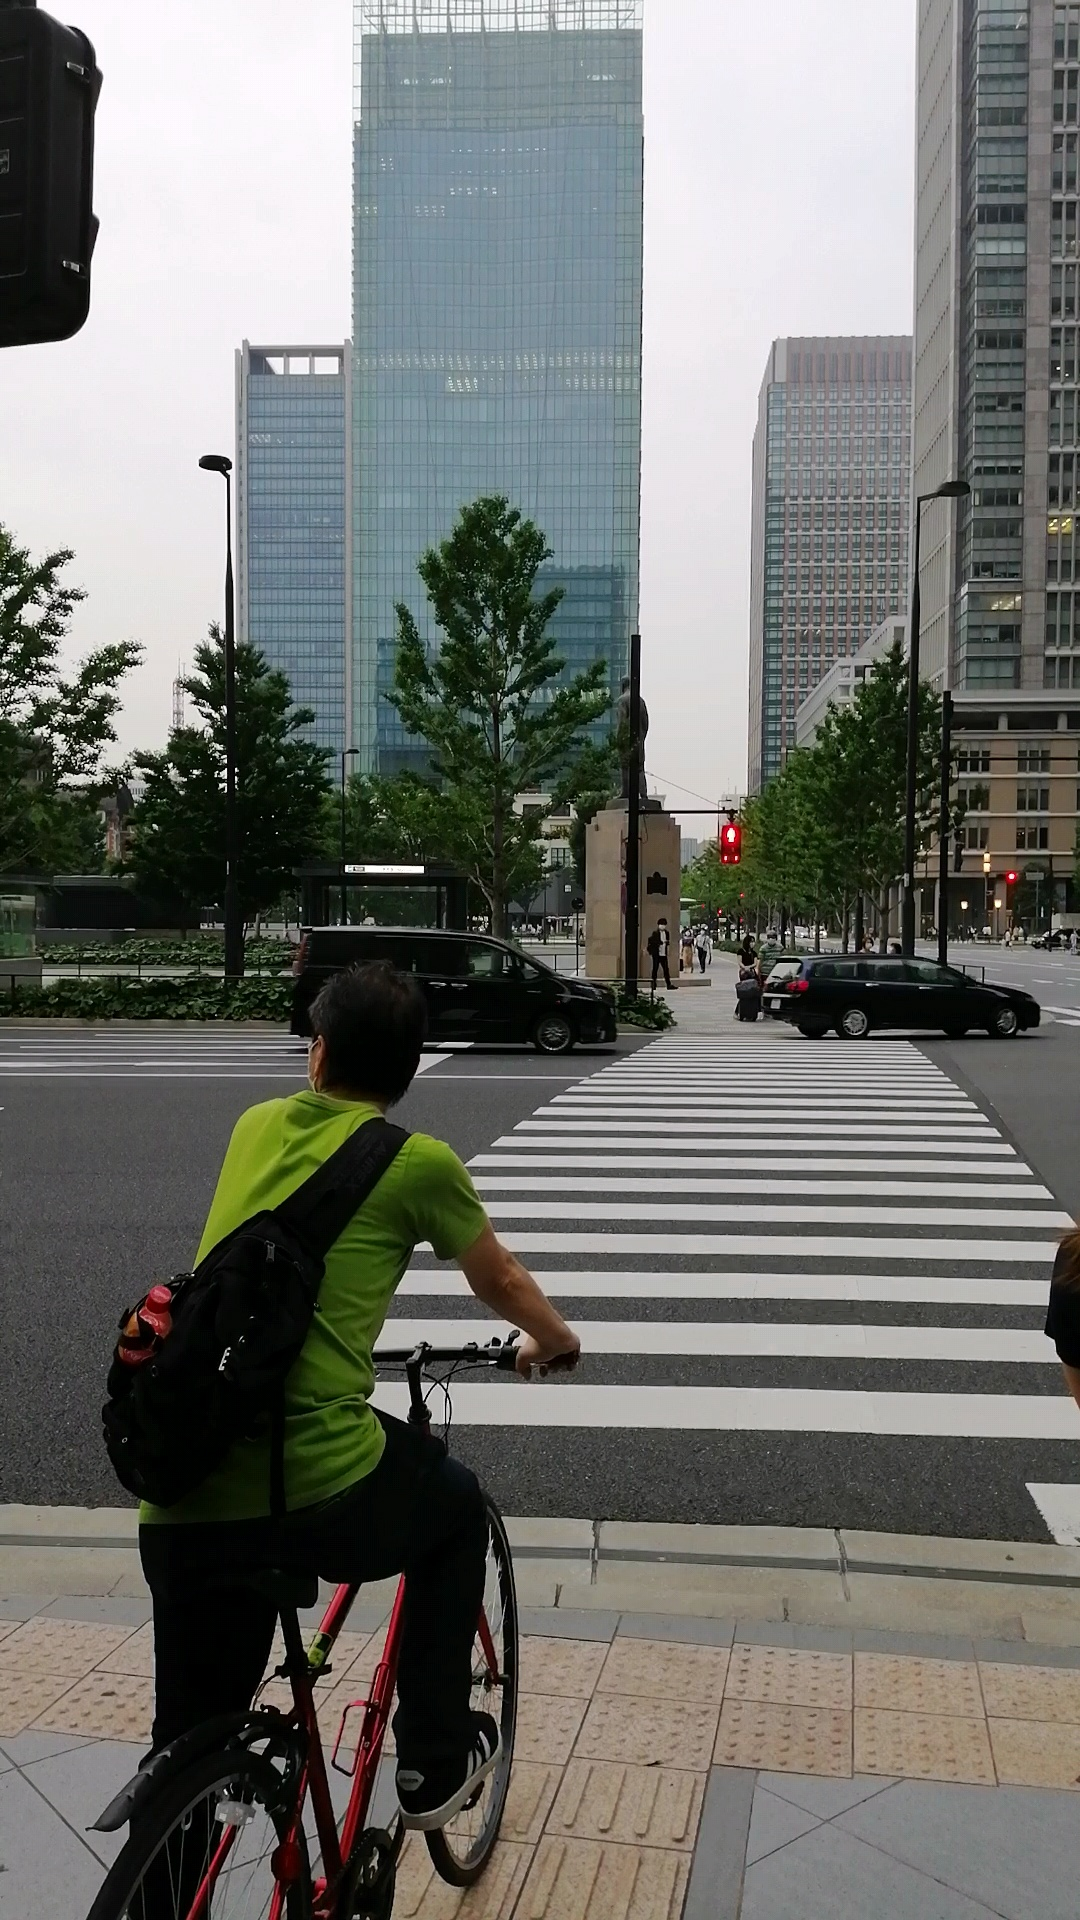red: (719, 823, 741, 866)
